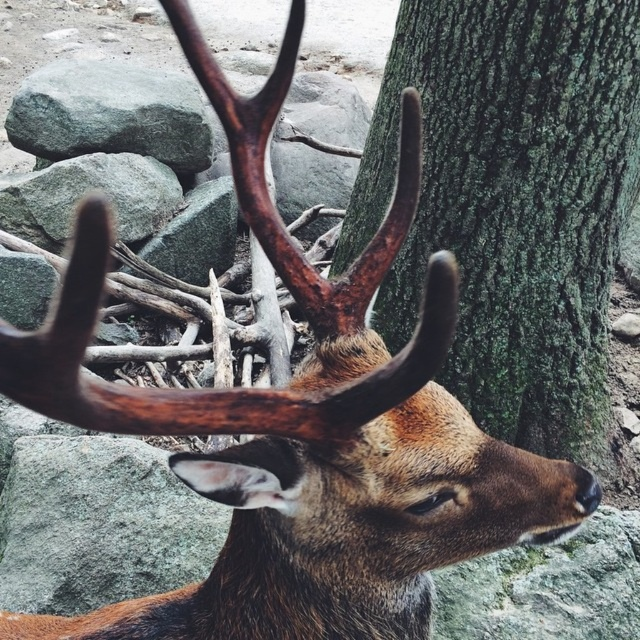Deer: (0, 0, 604, 640)
